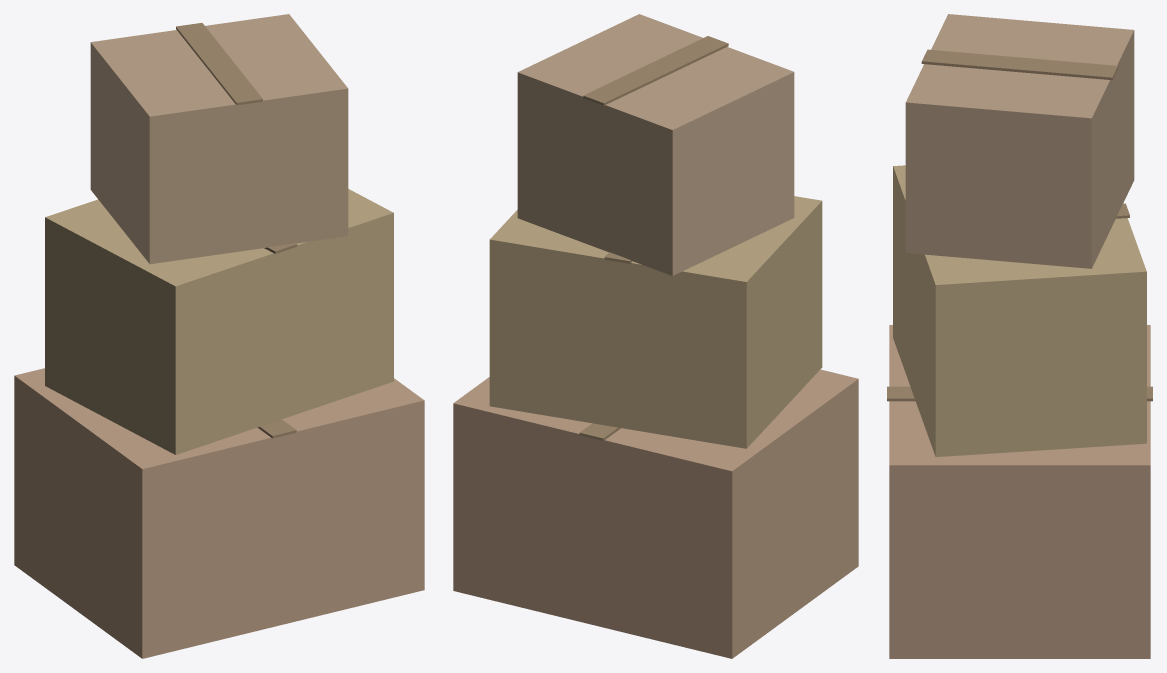
Rendered from boxes_moving.glb.
3 renders of one model, left to right at view 1: azimuth 30°, elevation 25°; view 2: azimuth 150°, elevation 25°; view 3: azimuth 270°, elevation 25°, orthographic. The views are drawn at different scales.
Parts seen in each view (by area): view 1: Boxes; view 2: Boxes; view 3: Boxes.
Part boxes in pixels (x1,y1,x2,y2): Boxes: (14,14,424,658); Boxes: (453,14,858,658); Boxes: (887,14,1152,658).
Bounding box in the file's own units: 0.7 × 1.22 × 0.56.
